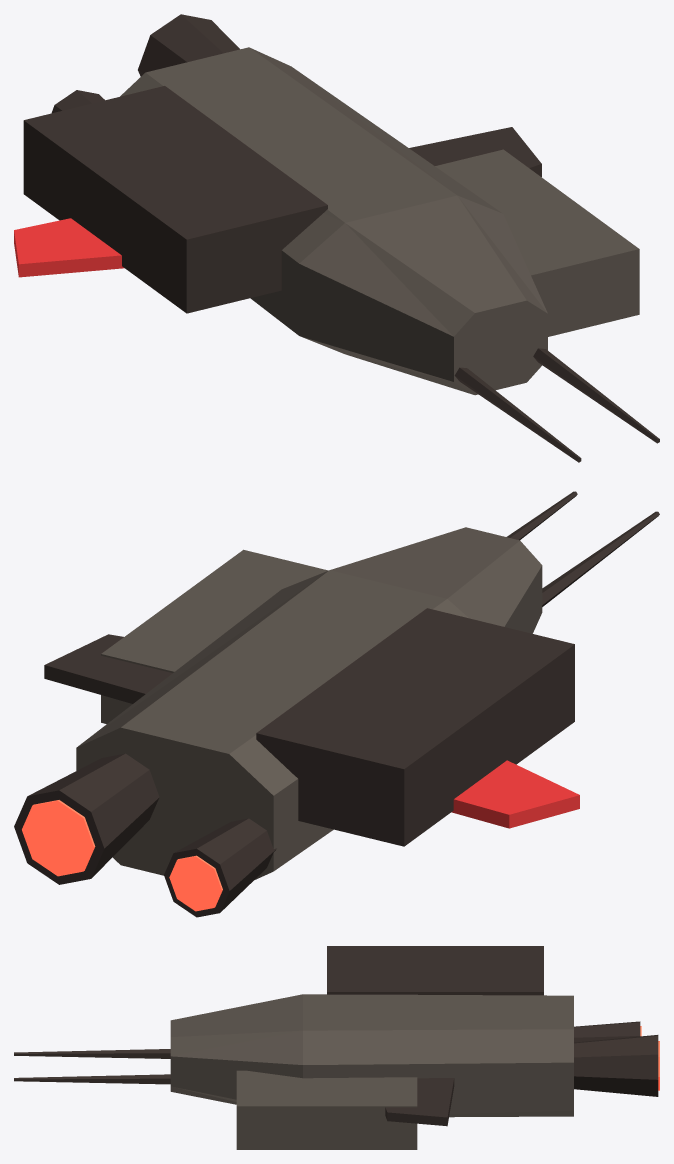
File: foundry_pirate.glb
The picture shows the model from 3 angles, top to bottom: view 1: azimuth 30°, elevation 25°; view 2: azimuth 150°, elevation 25°; view 3: azimuth 270°, elevation 25°; orthographic projection. The views are drawn at different scales.
Parts seen in each view (by area): view 1: pirate; view 2: pirate; view 3: pirate.
Boxes of the visible parts, left/top/right/bottom form: pirate: left=14, top=14, right=659, bottom=462; pirate: left=14, top=491, right=659, bottom=917; pirate: left=14, top=946, right=659, bottom=1149.
Size of the model in its own units: 6.4 by 1.65 by 10.73.
